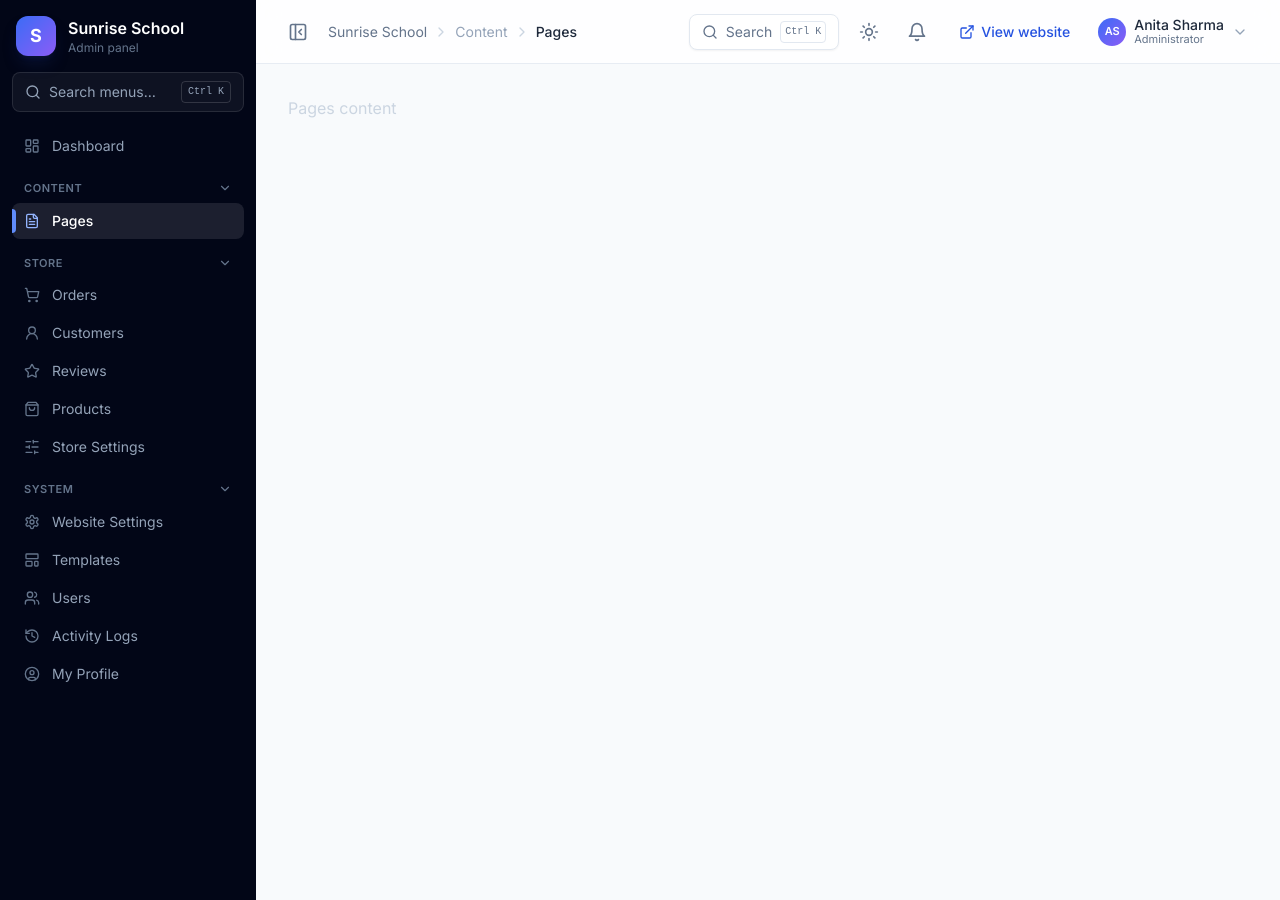
Test case: Layout › sidebar hide / show (yaad rehta hai) + breadcrumb
The image size is (1280, 900).
Expected: the text "Sunrise School" is shown, x1=68 y1=16 x2=184 y2=40
Expected: the navigation bar named "Location" shows "Pages", x1=536 y1=22 x2=577 y2=42
Click the button named "Hide sidebar" at [298, 32], box x1=280 y1=14 x2=316 y2=50
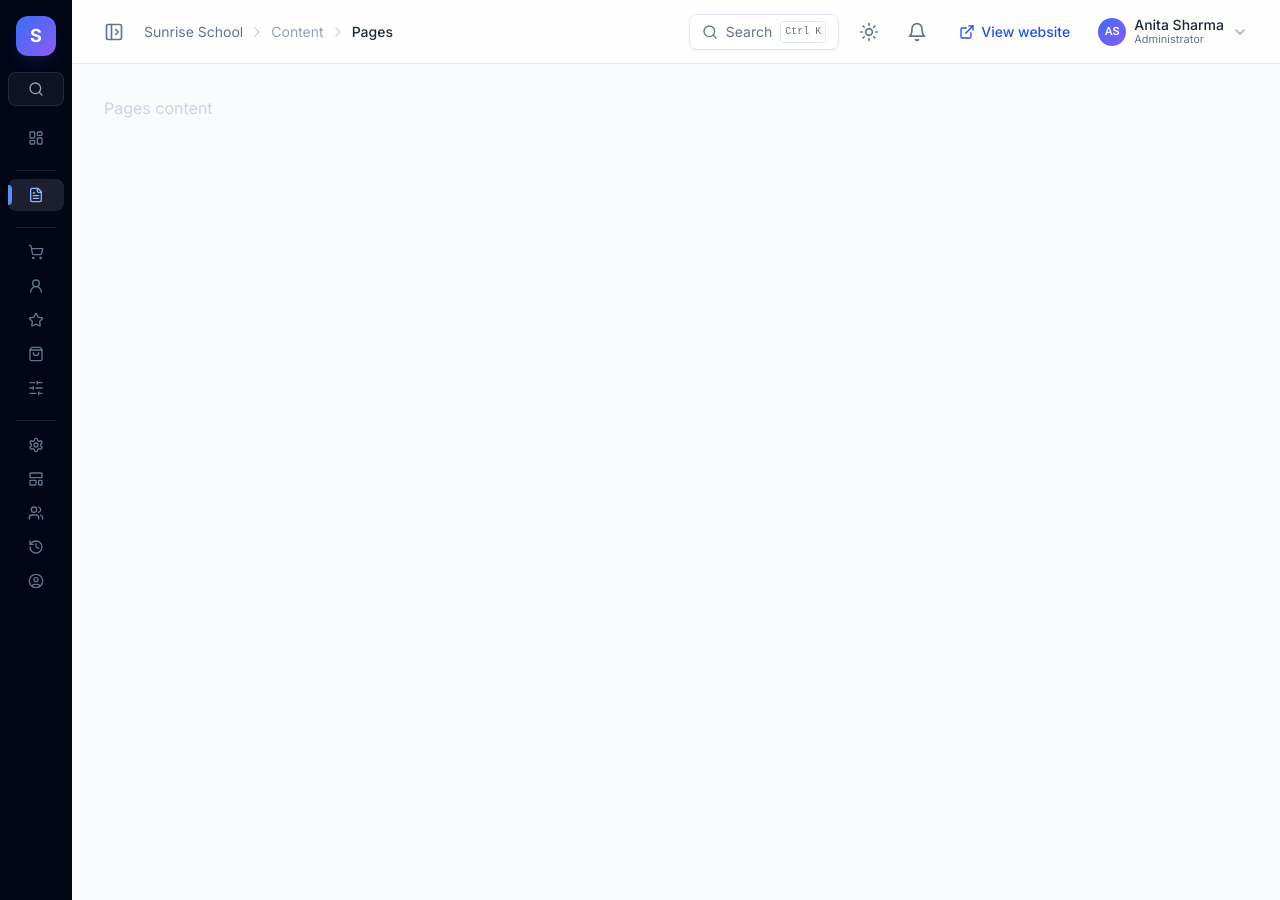
Result: the button "Store" is gone
Click the link named "Show sidebar" at [36, 36], box x1=0 y1=0 x2=72 y2=72
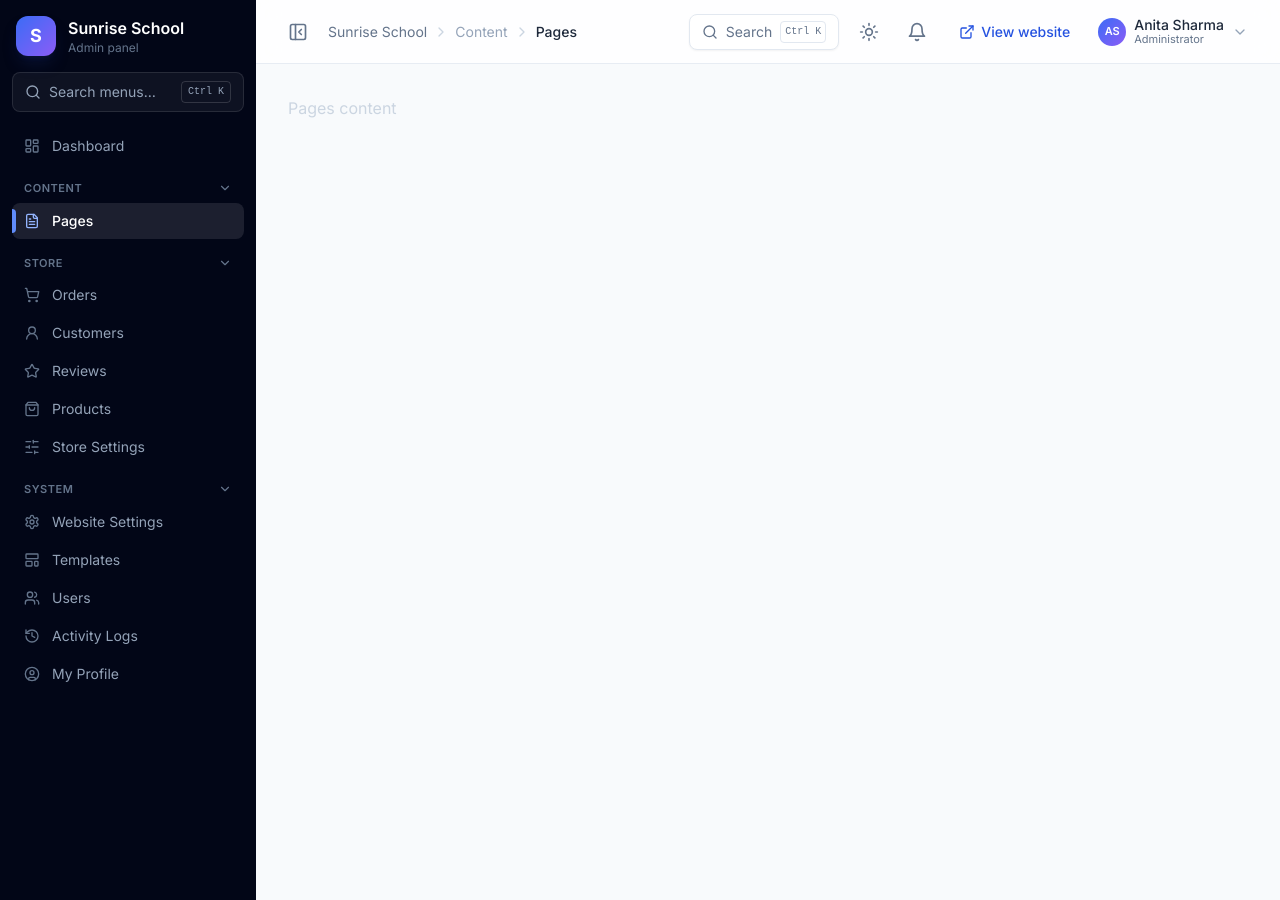
Result: the button "Store" is shown at x1=12 y1=254 x2=244 y2=277
